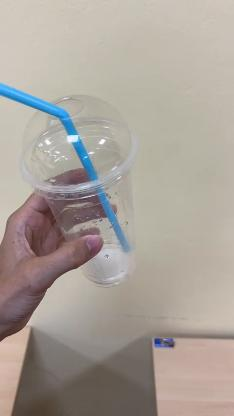Plastic Cup: (18, 89, 142, 289)
